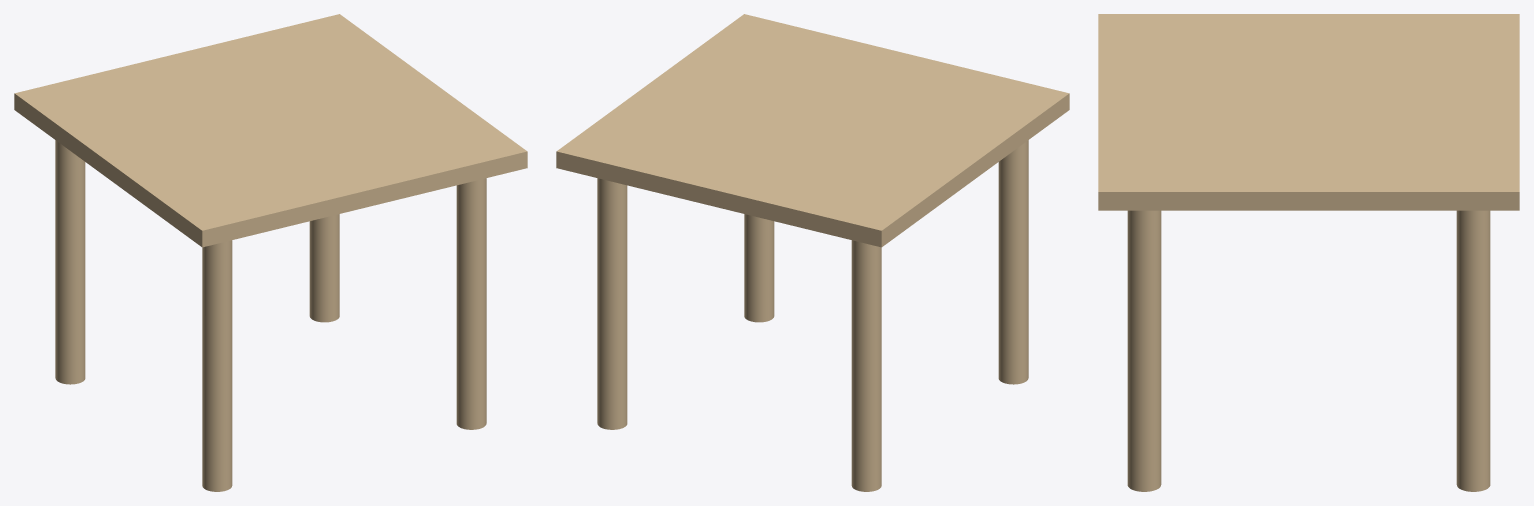
The model's file is ikea-lack-80371542-g2-proxy.glb.
3 renders of one model, left to right at view 1: azimuth 30°, elevation 25°; view 2: azimuth 150°, elevation 25°; view 3: azimuth 270°, elevation 25°, orthographic. The views are drawn at different scales.
Parts seen in each view (by area): view 1: proxy_body, leg (×4); view 2: proxy_body, leg (×4); view 3: proxy_body, leg (×2).
Part boxes in pixels (x1,y1,x2,y2): proxy_body: (14,14,527,247); leg (×4): (55,140,486,491); proxy_body: (556,14,1069,247); leg (×4): (597,140,1028,491); proxy_body: (1098,14,1519,210); leg (×2): (1127,210,1490,491).
Bounding box in the file's own units: 0.55 × 0.45 × 0.55.
